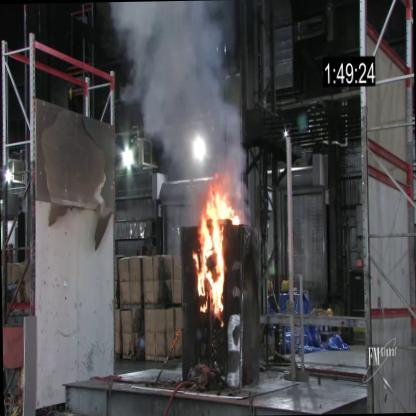fire: (189, 171, 246, 319)
smoke: (109, 0, 246, 169)
